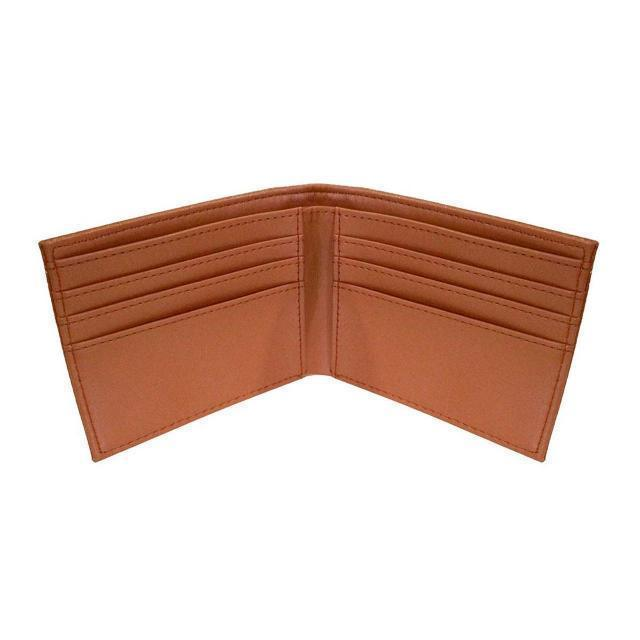wallet: (42, 183, 604, 463)
